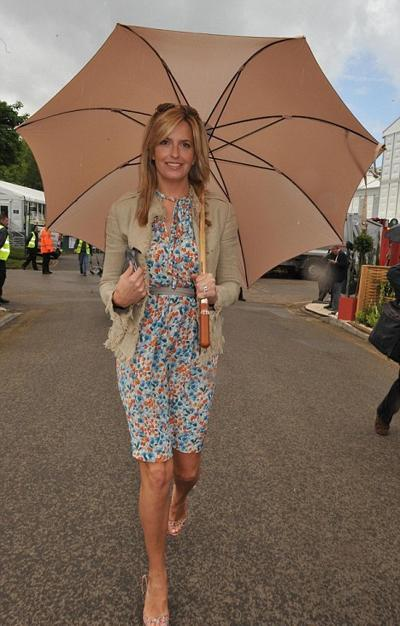person: (100, 103, 240, 626)
